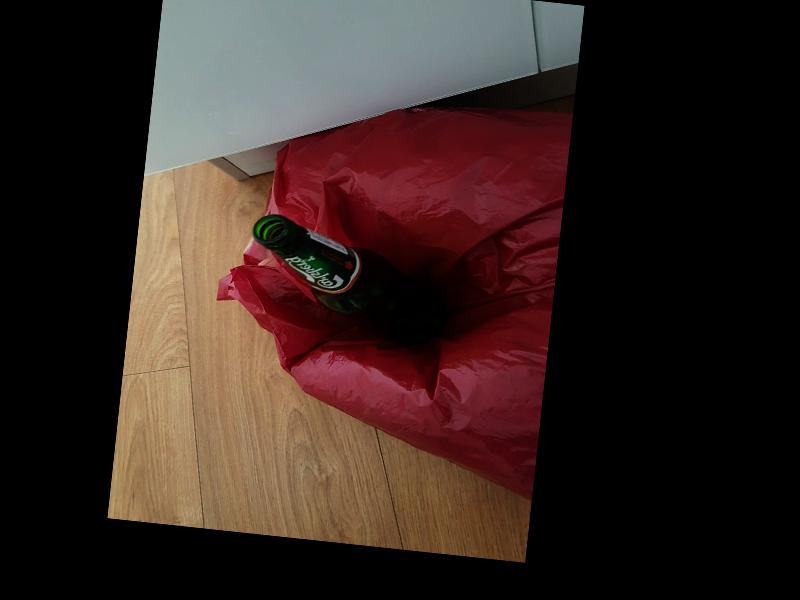Beer: (241, 213, 451, 348)
